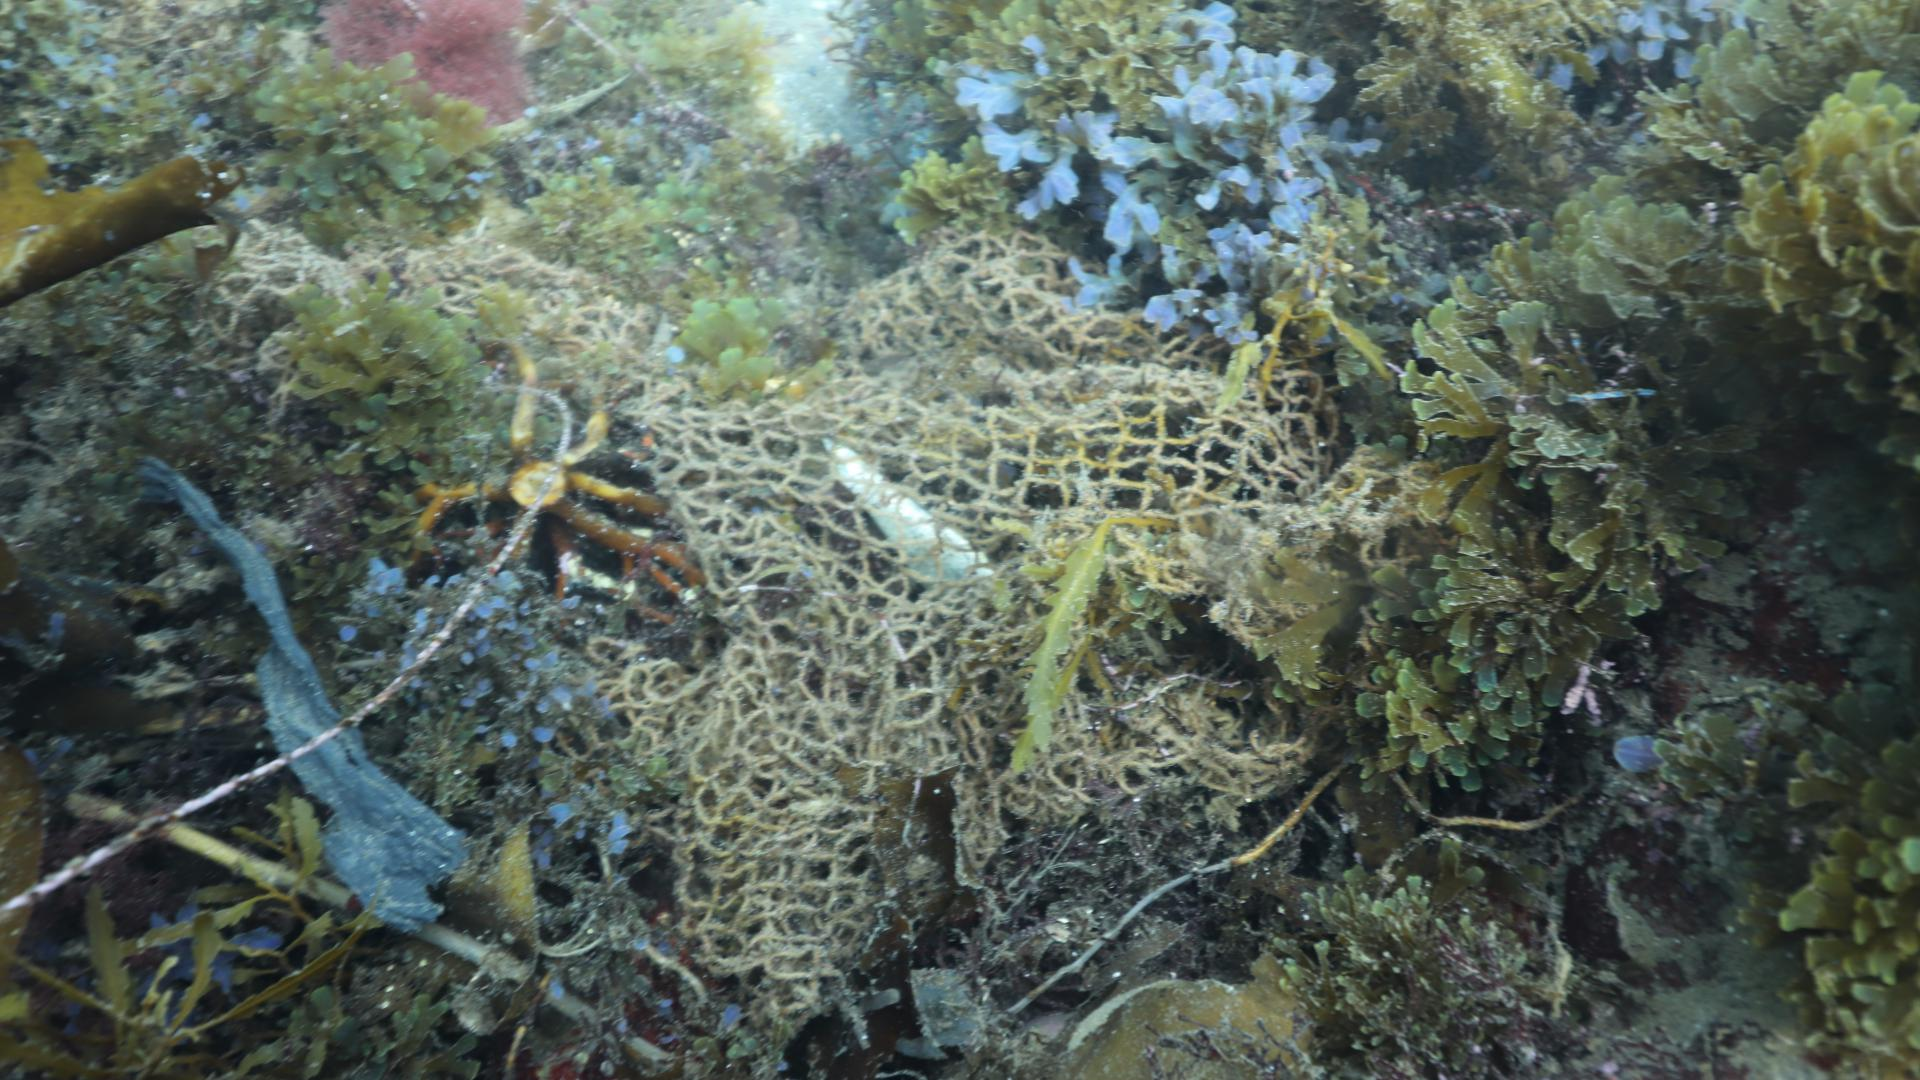fish net: (203, 215, 1341, 1026)
